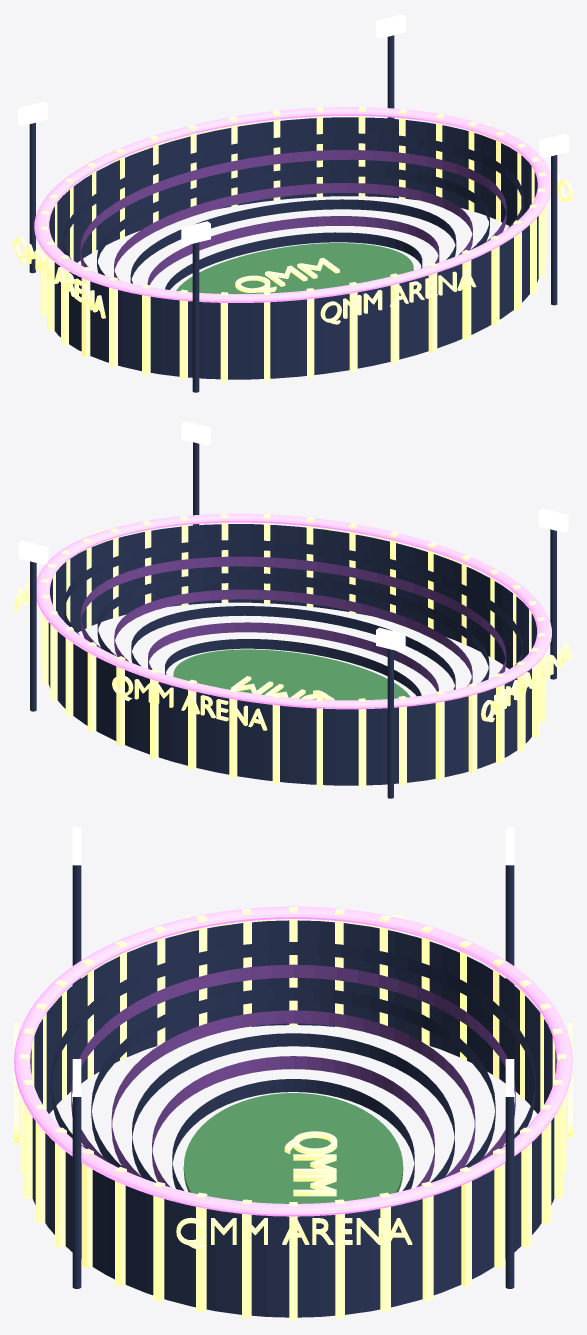
Rendered from qmm_arena.glb.
The picture shows the model from 3 angles, top to bottom: view 1: azimuth 30°, elevation 25°; view 2: azimuth 150°, elevation 25°; view 3: azimuth 270°, elevation 25°; orthographic projection. The views are drawn at different scales.
Visible parts, largest first — view 1: ArenaWall, ArenaCrown, ArenaPitch, ArenaTier6, ArenaTier5, ArenaTier4, ArenaTier3, ArenaTier2, ArenaTier1, ArenaTier0, ArenaName3, ArenaName2 (+26 smaller); view 2: ArenaWall, ArenaCrown, ArenaPitch, ArenaTier6, ArenaTier5, ArenaTier4, ArenaTier3, ArenaTier2, ArenaTier1, ArenaTier0, ArenaName1, ArenaName2 (+25 smaller); view 3: ArenaWall, ArenaPitch, ArenaCrown, ArenaTier6, ArenaTier5, ArenaTier4, ArenaTier3, ArenaTier2, ArenaTier1, ArenaTier0, ArenaName0, ArenaCentreLogo (+25 smaller).
Boxes of the visible parts, <box> form: ArenaWall: <box>49,117,538,379</box>; ArenaCrown: <box>34,107,550,302</box>; ArenaPitch: <box>176,243,413,293</box>; ArenaTier6: <box>63,133,523,258</box>; ArenaTier5: <box>80,150,506,267</box>; ArenaTier4: <box>97,166,489,275</box>; ArenaTier3: <box>114,183,472,279</box>; ArenaTier2: <box>130,199,456,283</box>; ArenaTier1: <box>147,216,439,285</box>; ArenaTier0: <box>165,232,422,289</box>; ArenaName3: <box>320,268,476,324</box>; ArenaName2: <box>14,237,105,318</box>; ArenaWall: <box>48,524,536,785</box>; ArenaCrown: <box>36,513,551,709</box>; ArenaPitch: <box>173,649,410,700</box>; ArenaTier6: <box>64,540,522,665</box>; ArenaTier5: <box>80,556,506,673</box>; ArenaTier4: <box>97,573,489,681</box>; ArenaTier3: <box>114,589,472,686</box>; ArenaTier2: <box>131,606,455,689</box>; ArenaTier1: <box>148,622,438,691</box>; ArenaTier0: <box>165,639,421,696</box>; ArenaName1: <box>112,675,267,730</box>; ArenaName2: <box>481,643,572,722</box>; ArenaWall: <box>30,920,556,1317</box>; ArenaPitch: <box>183,1093,403,1203</box>; ArenaCrown: <box>14,906,572,1216</box>; ArenaTier6: <box>51,942,535,1147</box>; ArenaTier5: <box>71,964,515,1162</box>; ArenaTier4: <box>91,987,495,1171</box>; ArenaTier3: <box>111,1010,475,1177</box>; ArenaTier2: <box>132,1033,454,1182</box>; ArenaTier1: <box>152,1056,434,1187</box>; ArenaTier0: <box>172,1079,414,1190</box>; ArenaName0: <box>176,1217,412,1250</box>; ArenaCentreLogo: <box>284,1131,337,1196</box>.
Bounding box in the file's own units: 251 × 84 × 194.
